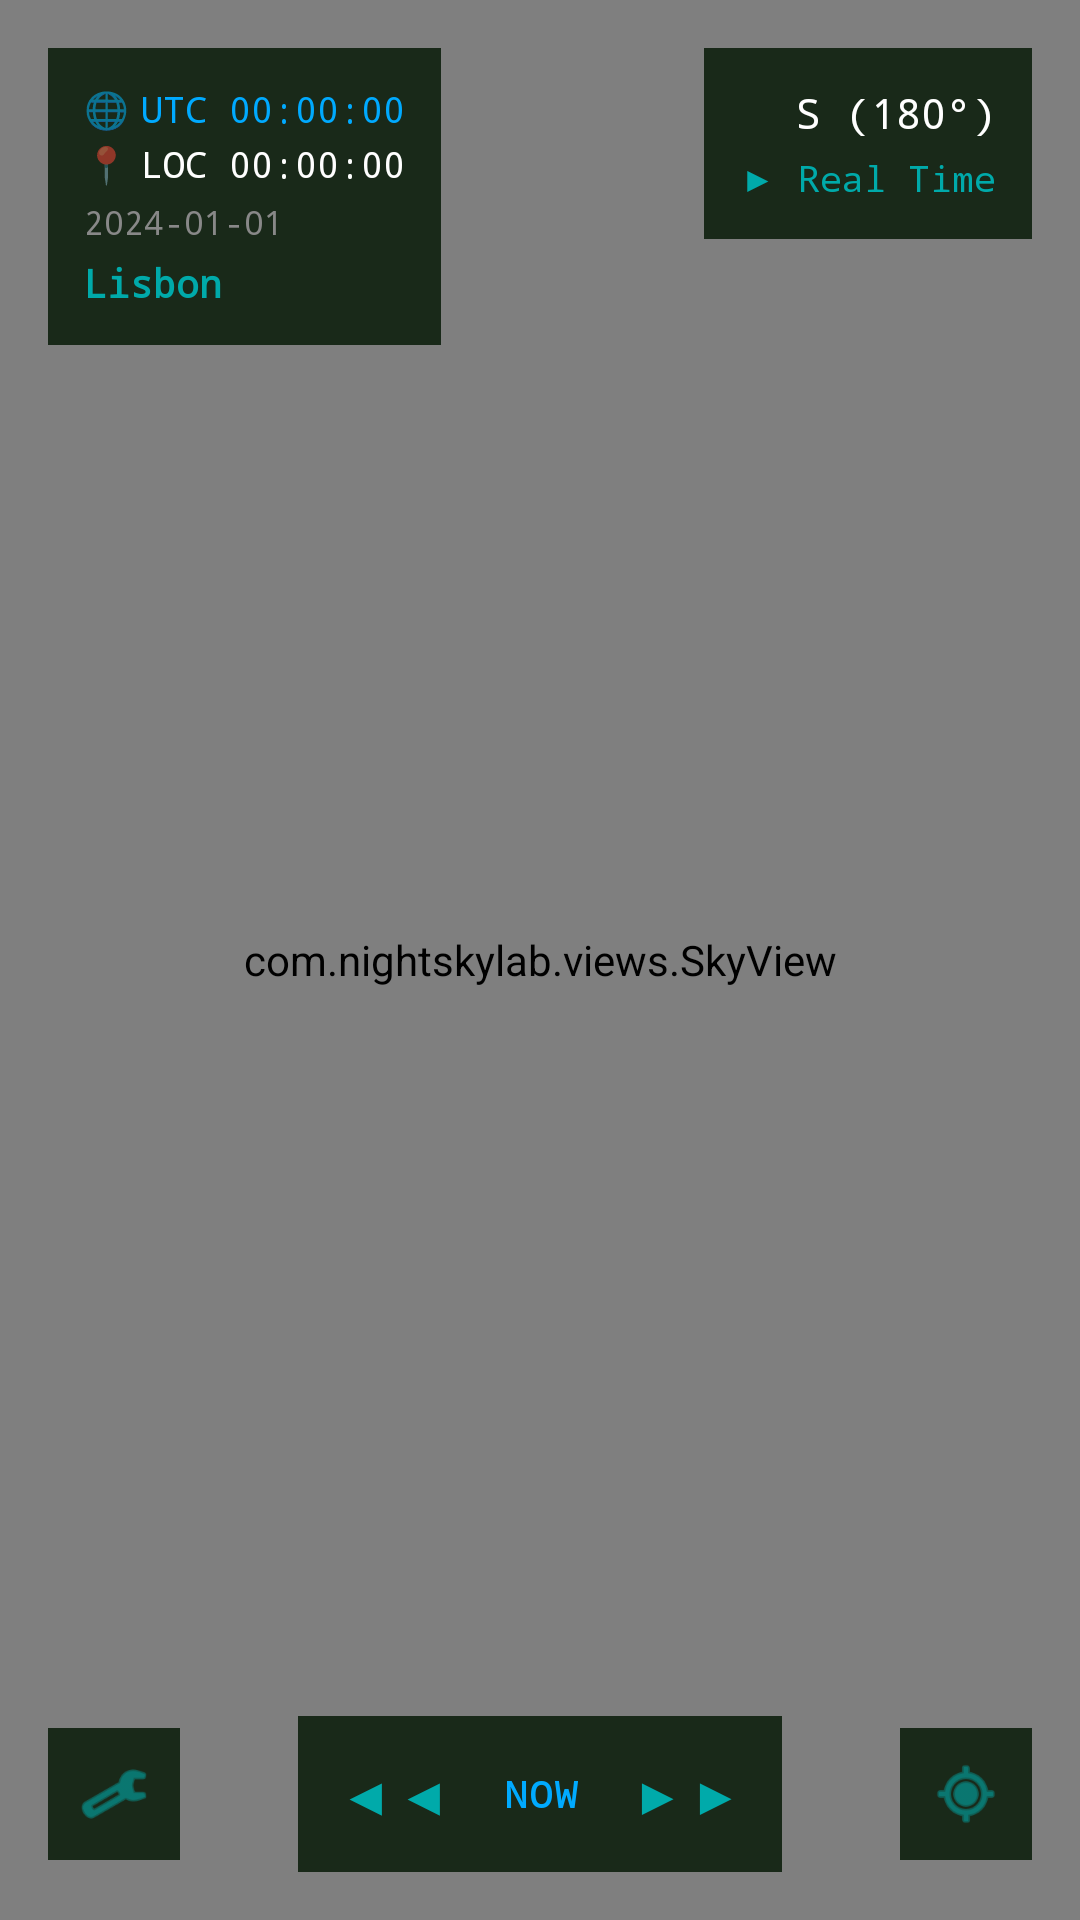

Icons on this 1080*1920 Android screen, each with its box as (x1, y1, x2, y2):
Location: (900, 1728, 1032, 1860)
Settings: (48, 1728, 180, 1860)
